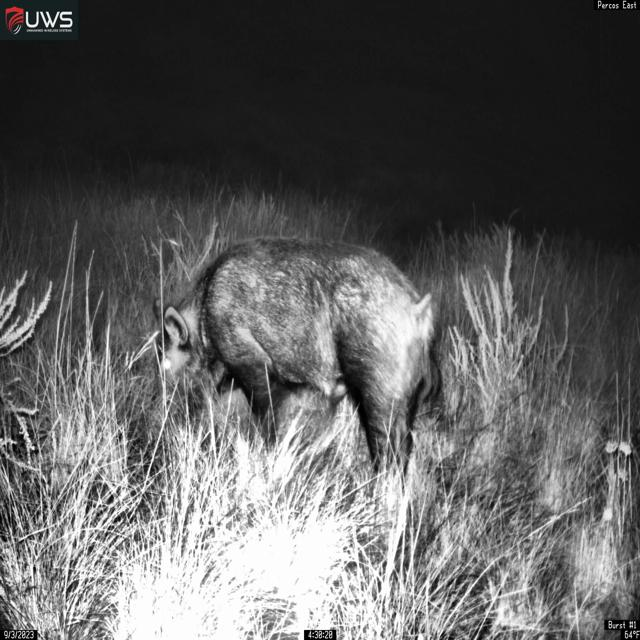pig: (150, 235, 443, 498)
